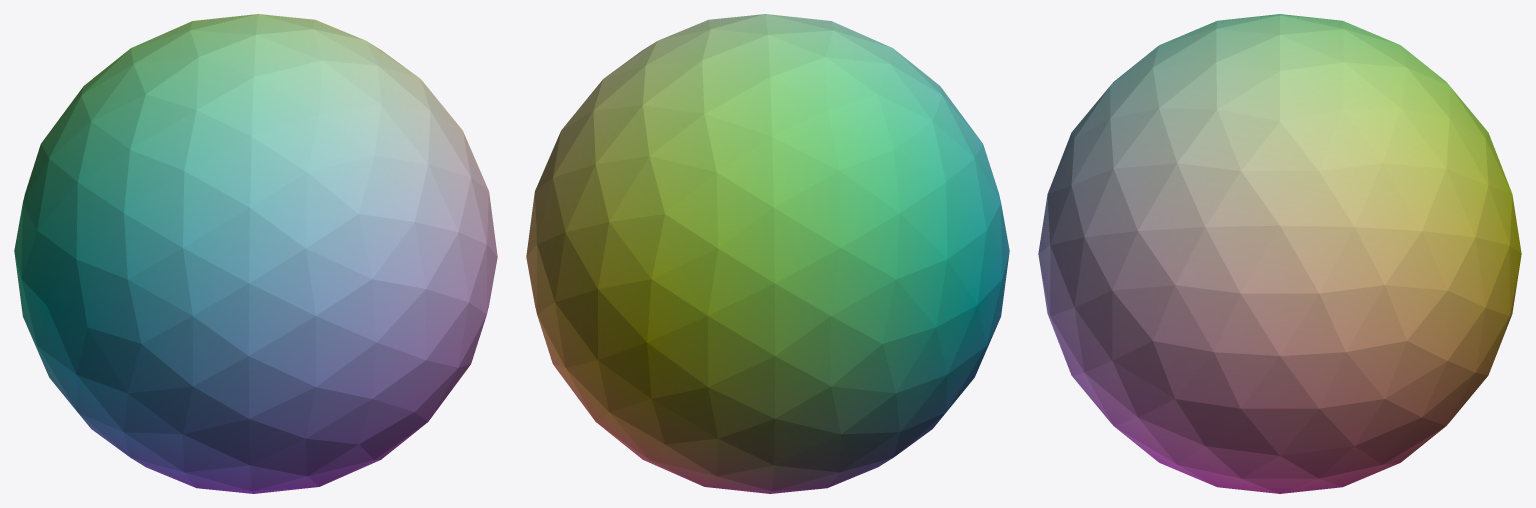
Rendered from vertex_colors.glb.
3 views of the same model, side by side, from view 1: azimuth 30°, elevation 25°; view 2: azimuth 150°, elevation 25°; view 3: azimuth 270°, elevation 25° (orthographic).
Parts seen in each view (by area): view 1: world; view 2: world; view 3: world.
Part boxes in pixels (<box>): world: <box>14,14,497,493</box>; world: <box>526,14,1009,493</box>; world: <box>1038,14,1521,493</box>.
Bounding box in the file's own units: 1.2 × 1.2 × 1.2.
